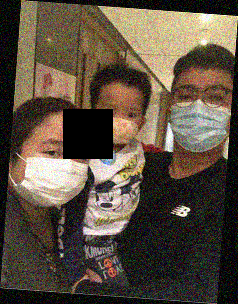with_mask: (12, 136, 88, 210), (168, 81, 231, 155), (95, 101, 143, 147)
